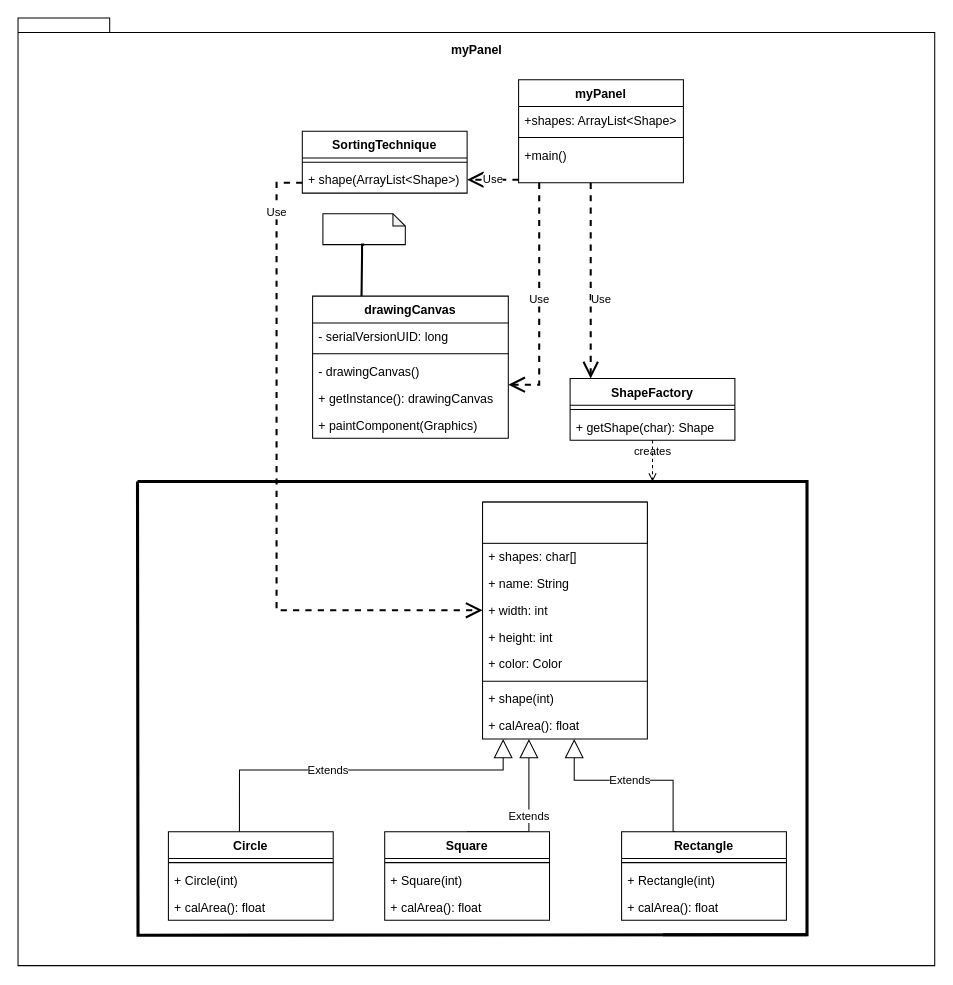
Image size: 953x985. Some labels were removed from this diagram. The centre of each missing label's shape, as x and y in pixels:
<<abstract>> Shape: the point at 564,522
Singleton: the point at 363,229
